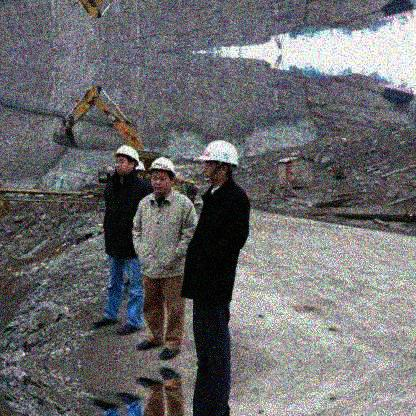helmet: (200, 139, 240, 183), (148, 156, 174, 193), (114, 145, 138, 177), (135, 162, 146, 179)
